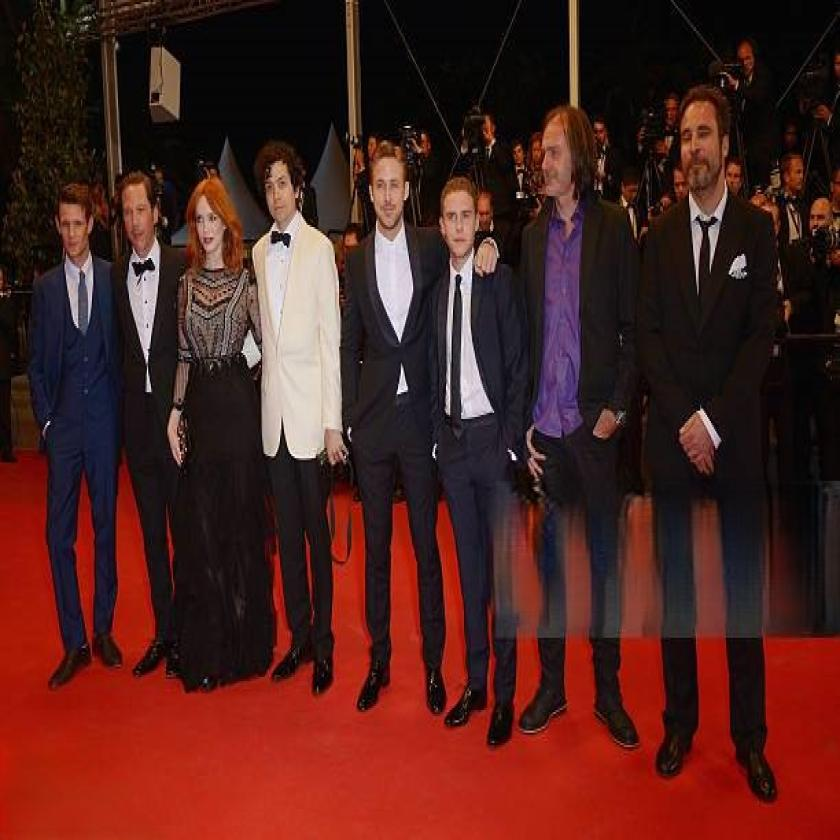Sin_casco: (675, 93, 740, 198), (532, 100, 592, 210), (431, 170, 487, 265), (49, 181, 101, 275), (183, 171, 235, 263), (358, 148, 414, 227), (261, 136, 308, 220), (117, 158, 160, 241), (779, 152, 808, 200)
